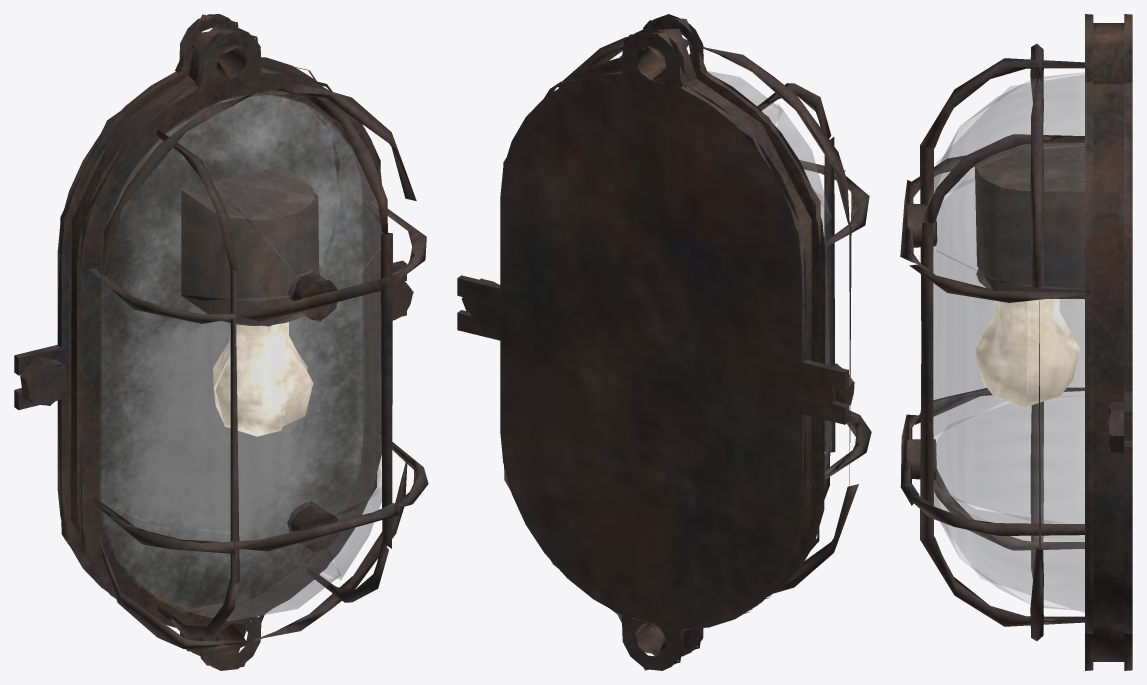
The model's file is ph_industrial_wall_lamp.glb.
The picture shows the model from 3 angles, left to right: view 1: azimuth 30°, elevation 25°; view 2: azimuth 150°, elevation 25°; view 3: azimuth 270°, elevation 25°; orthographic projection.
Visible parts, largest first — view 1: industrial_wall_lamp; view 2: industrial_wall_lamp; view 3: industrial_wall_lamp.
Boxes of the visible parts, left/top/right/bottom form: industrial_wall_lamp: left=14, top=14, right=428, bottom=670; industrial_wall_lamp: left=457, top=14, right=871, bottom=670; industrial_wall_lamp: left=900, top=14, right=1132, bottom=670.
Bounding box in the file's own units: 0.2737 × 0.432 × 0.14.
2 materials, 2 textured.
